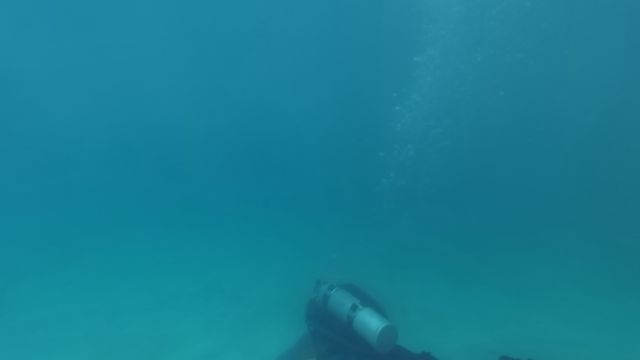Diver: (287, 273, 432, 358)
